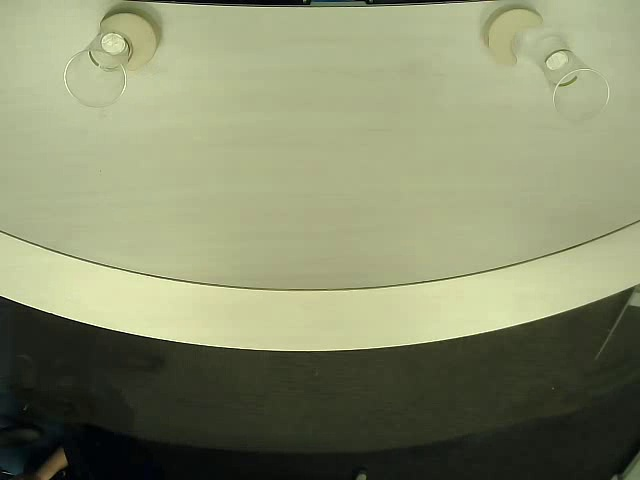Cup: (539, 40, 613, 127), (64, 29, 134, 110)
Deliver: (483, 6, 546, 74), (98, 9, 162, 75)
